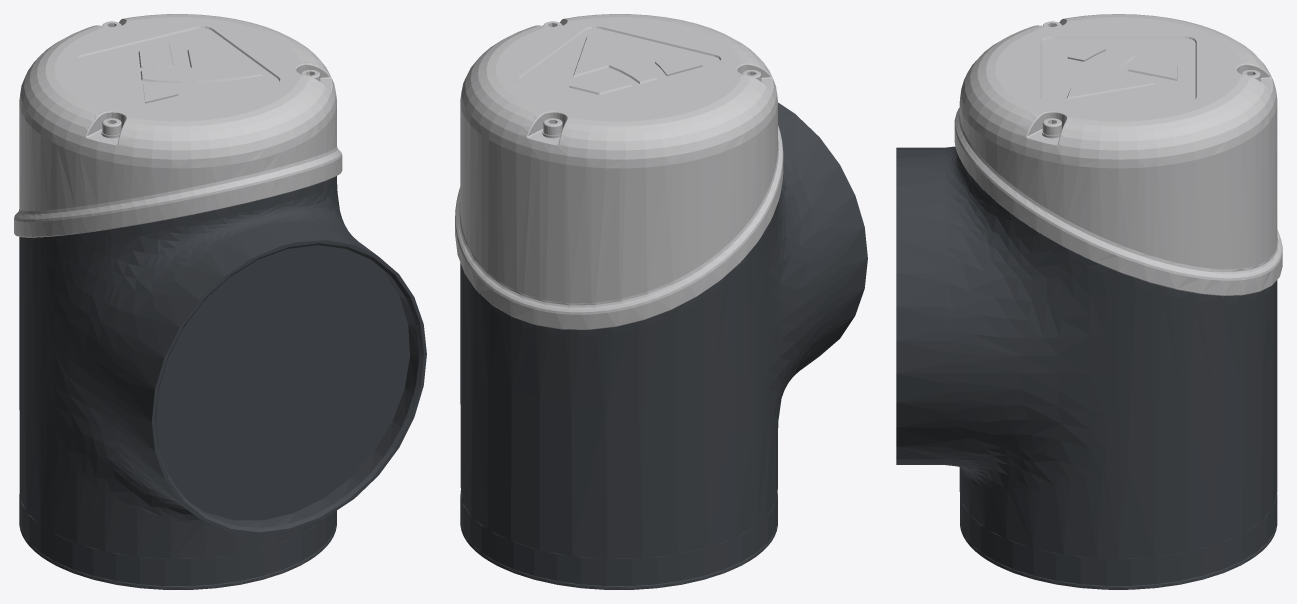
The model's file is ARM5.obj.
3 renders of one model, left to right at view 1: azimuth 30°, elevation 25°; view 2: azimuth 150°, elevation 25°; view 3: azimuth 270°, elevation 25°, orthographic.
Parts seen in each view (by area): view 1: GBT-C12A-400.00-5_GBT-SIZE2.00-5.001; view 2: GBT-C12A-400.00-5_GBT-SIZE2.00-5.001; view 3: GBT-C12A-400.00-5_GBT-SIZE2.00-5.001.
Boxes of the visible parts, x1,y1,x2,y2 form: GBT-C12A-400.00-5_GBT-SIZE2.00-5.001: [14, 14, 426, 589]; GBT-C12A-400.00-5_GBT-SIZE2.00-5.001: [455, 14, 867, 589]; GBT-C12A-400.00-5_GBT-SIZE2.00-5.001: [896, 14, 1282, 589].
Bounding box in the file's own units: 93 × 142 × 110.
Materials: 1 (1 with a texture image).
